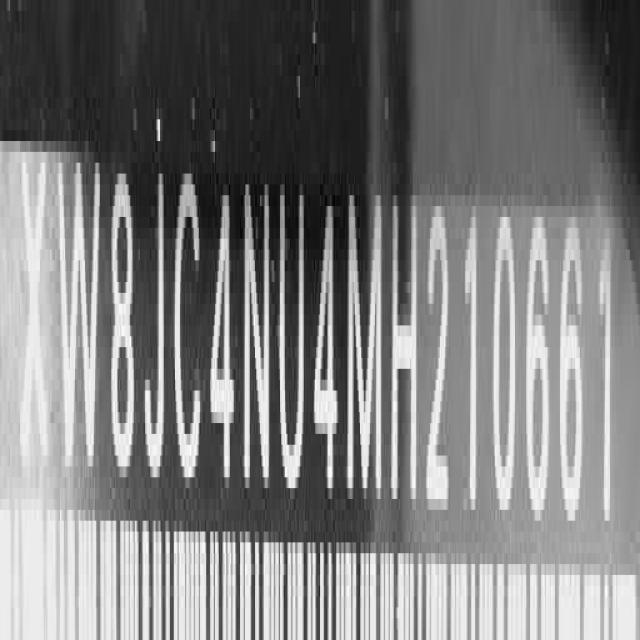0: (492, 202, 521, 530), (279, 171, 306, 503)
1: (598, 222, 620, 544), (464, 194, 482, 530)
2: (427, 194, 455, 523)
4: (209, 168, 237, 500), (314, 183, 342, 509)
6: (557, 206, 585, 534), (526, 202, 553, 530)
8: (110, 160, 138, 488)
C: (172, 177, 205, 474)
H: (391, 183, 422, 514)
J: (146, 165, 170, 492)
M: (346, 181, 386, 502)
N: (244, 170, 275, 504)
W: (56, 148, 103, 486)
X: (19, 135, 50, 482)
